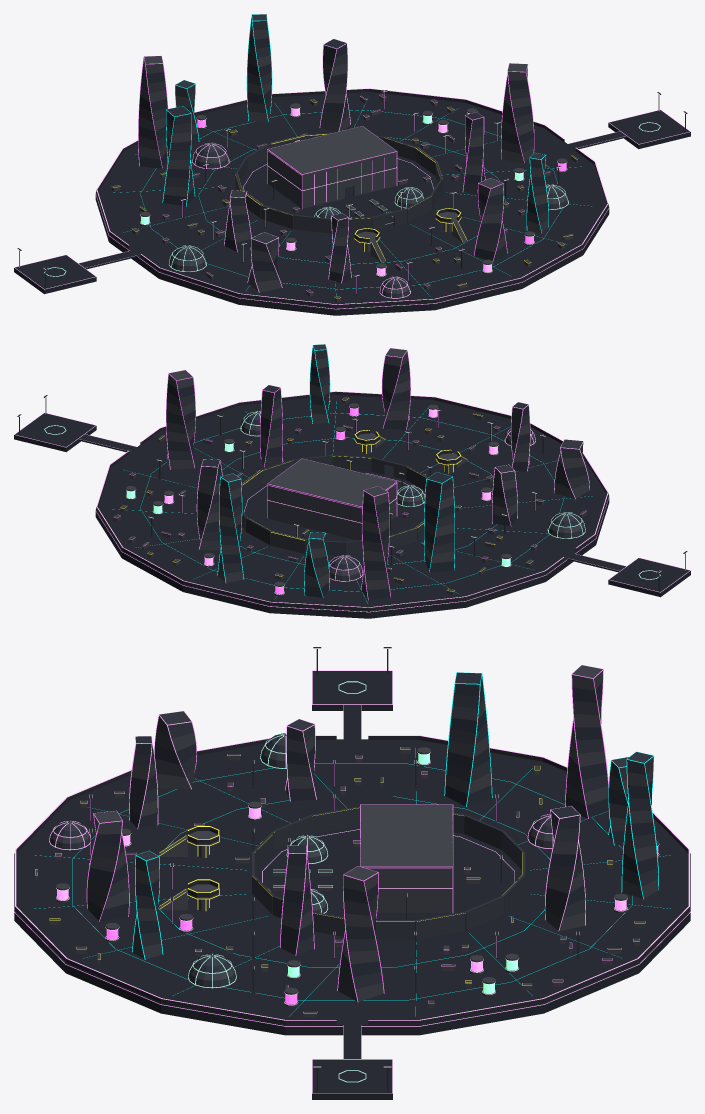
File: heist_helix.glb
3 renders of one model, top to bottom at view 1: azimuth 30°, elevation 25°; view 2: azimuth 150°, elevation 25°; view 3: azimuth 270°, elevation 25°, orthographic. The views are drawn at different scales.
Parts seen in each view (by area): view 1: Ground, Structures, Trim, Cover; view 2: Ground, Structures, Trim, Cover; view 3: Ground, Structures, Trim, Cover.
Boxes of the visible parts, box(x1,y1,x2,y2) form: Ground: box(14, 92, 690, 315); Structures: box(17, 14, 687, 307); Trim: box(14, 14, 690, 309); Cover: box(112, 94, 577, 302); Ground: box(14, 395, 690, 618); Structures: box(17, 344, 687, 610); Trim: box(14, 344, 690, 612); Cover: box(113, 397, 586, 596); Ground: box(14, 671, 690, 1099); Structures: box(15, 647, 689, 1091); Trim: box(14, 648, 690, 1093); Cover: box(35, 747, 658, 1017).
Size of the model in its own units: 222 by 36.2 by 150.
